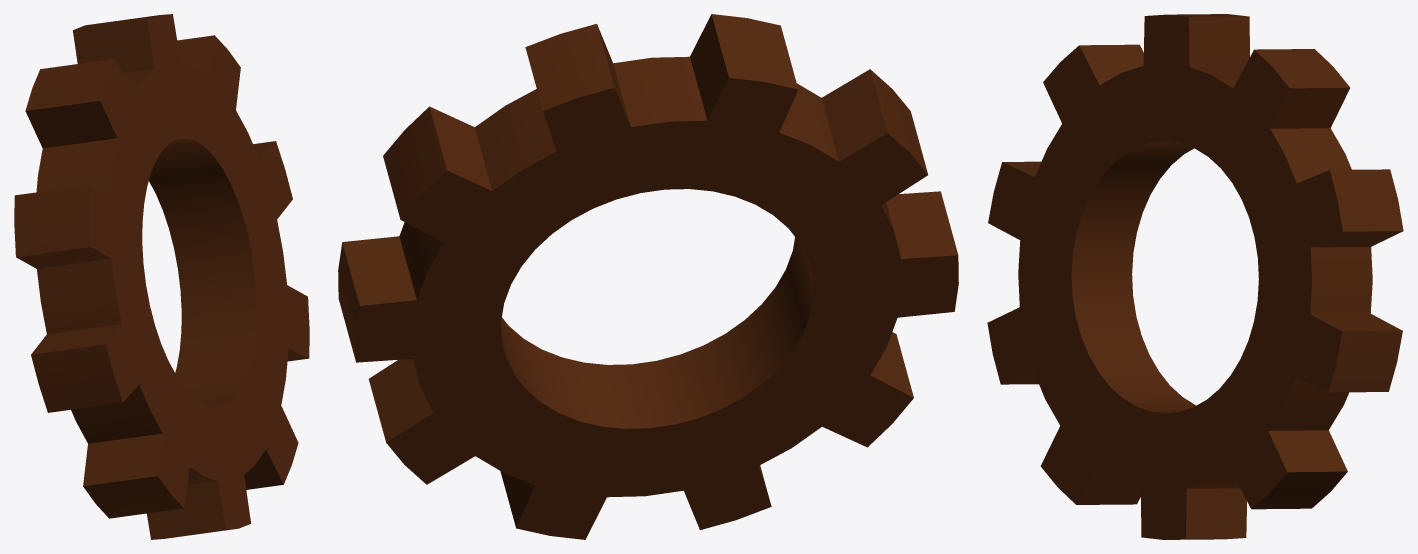
Rendered from Collectible_Gear.obj.
3 views of the same model, side by side, from view 1: azimuth 30°, elevation 25°; view 2: azimuth 150°, elevation 25°; view 3: azimuth 270°, elevation 25° (orthographic). The views are drawn at different scales.
Parts seen in each view (by area): view 1: Collectible_Gear_Gear; view 2: Collectible_Gear_Gear; view 3: Collectible_Gear_Gear.
Boxes of the visible parts, box(x1,y1,x2,y2) form: Collectible_Gear_Gear: box(14, 14, 309, 539); Collectible_Gear_Gear: box(338, 14, 958, 539); Collectible_Gear_Gear: box(987, 14, 1403, 539).
Bounding box in the file's own units: 0.3511 × 0.3967 × 0.3182.
